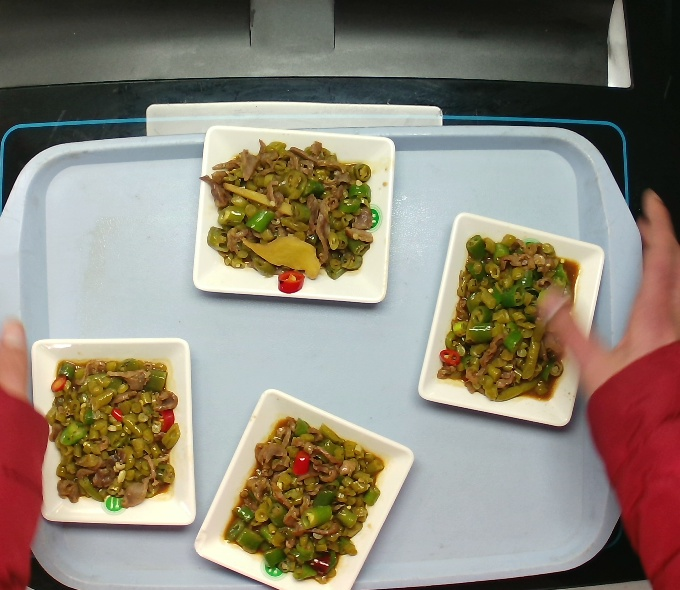wcq-SuanDouJiaoChaoJiZhen: (198, 140, 386, 302), (214, 415, 388, 590), (441, 231, 584, 404), (40, 355, 183, 505)
